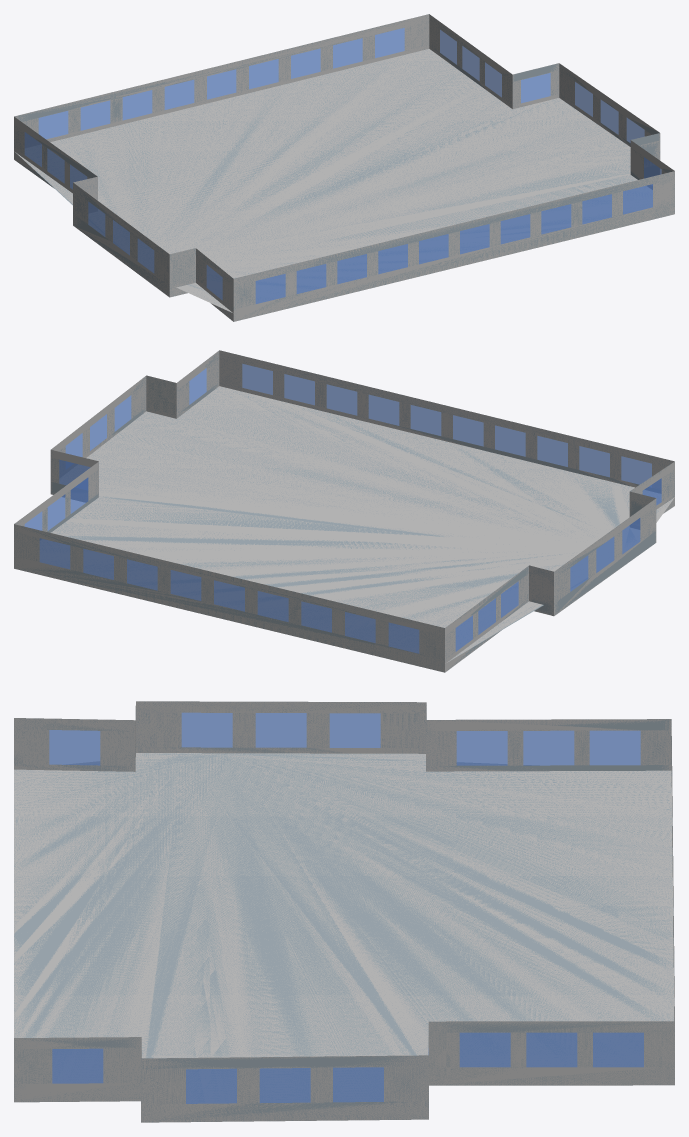
Rendered from GenericBuilding_Floor_2017_FBX.fbx.
3 renders of one model, top to bottom at view 1: azimuth 30°, elevation 25°; view 2: azimuth 150°, elevation 25°; view 3: azimuth 270°, elevation 25°, orthographic. The views are drawn at different scales.
Visible parts, largest first — view 1: Group3, Group2; view 2: Group3, Group2; view 3: Group3, Group2.
Boxes of the visible parts, box(x1,y1,x2,y2) form: Group3: box(15, 49, 652, 312); Group2: box(14, 14, 674, 321); Group3: box(40, 386, 674, 662); Group2: box(14, 350, 674, 672); Group3: box(14, 753, 674, 1103); Group2: box(14, 701, 674, 1122).
Size of the model in its own units: 40561 by 3403 by 31727.
